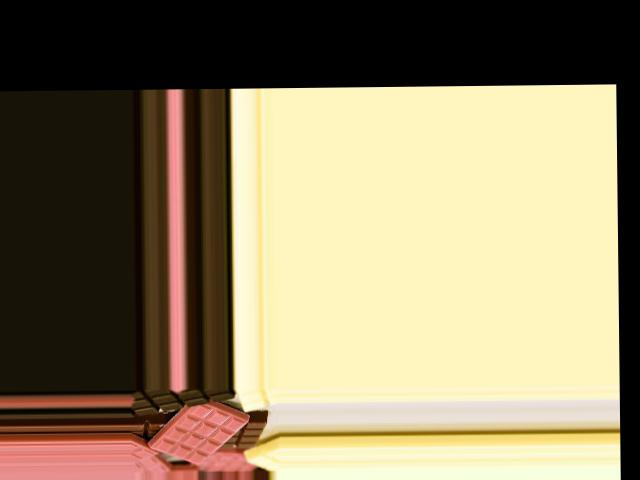chocolate: (147, 387, 248, 468)
